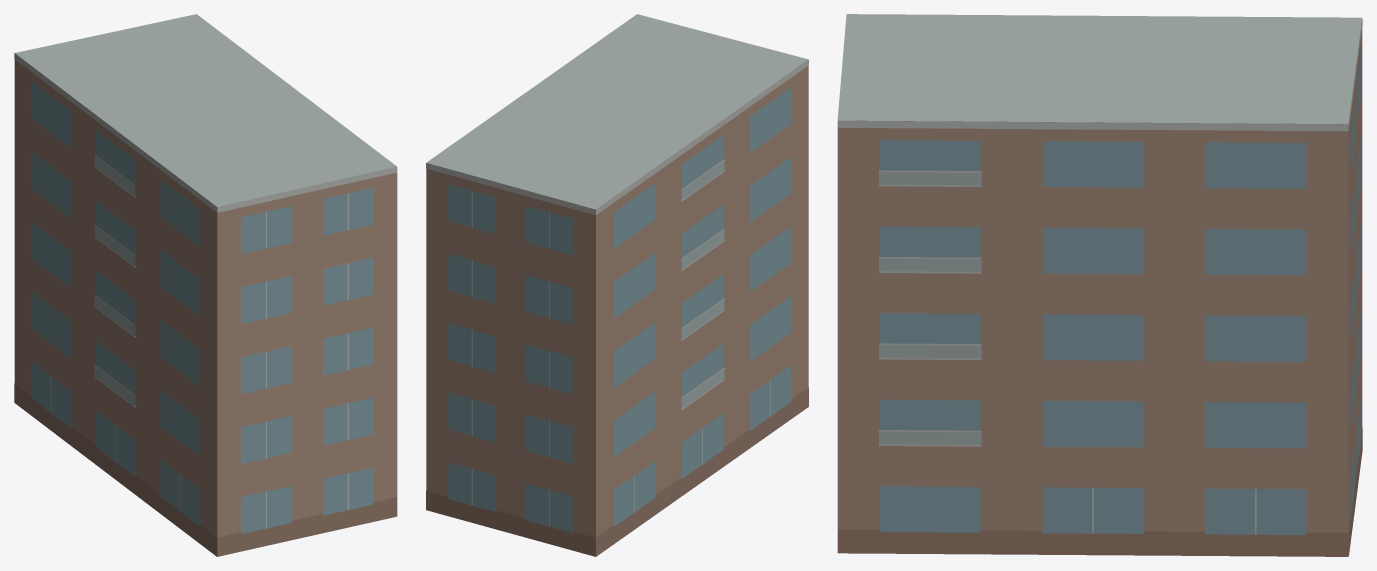
File: survey-upis-32729192.glb
3 views of the same model, side by side, from view 1: azimuth 30°, elevation 25°; view 2: azimuth 150°, elevation 25°; view 3: azimuth 270°, elevation 25° (orthographic). The views are drawn at different scales.
Parts seen in each view (by area): view 1: survey-upis-32729192.tmp; view 2: survey-upis-32729192.tmp; view 3: survey-upis-32729192.tmp.
Part boxes in pixels (left/top/right/bottom): survey-upis-32729192.tmp: left=14, top=14, right=397, bottom=556; survey-upis-32729192.tmp: left=426, top=14, right=808, bottom=556; survey-upis-32729192.tmp: left=837, top=14, right=1362, bottom=556.
Bounding box in the file's own units: 7.98 × 14.6 × 16.06.
